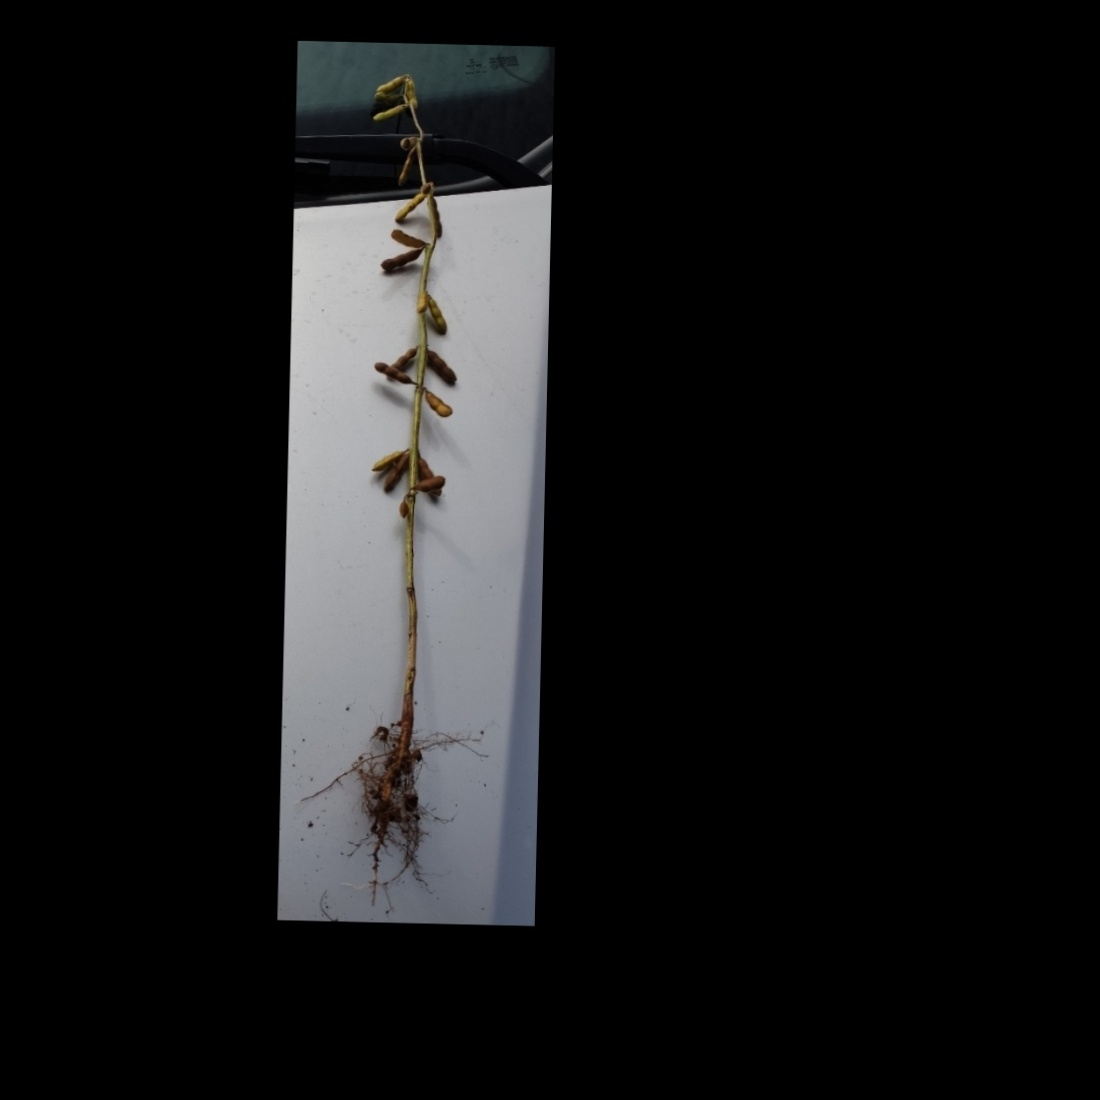pod: (393, 187, 434, 227), (377, 244, 429, 274), (423, 345, 460, 384), (380, 450, 412, 496), (371, 358, 418, 387), (423, 292, 451, 340), (396, 143, 422, 189), (419, 389, 456, 419), (369, 448, 411, 473), (372, 72, 413, 97), (371, 100, 411, 124)
soy: (311, 64, 479, 855)
